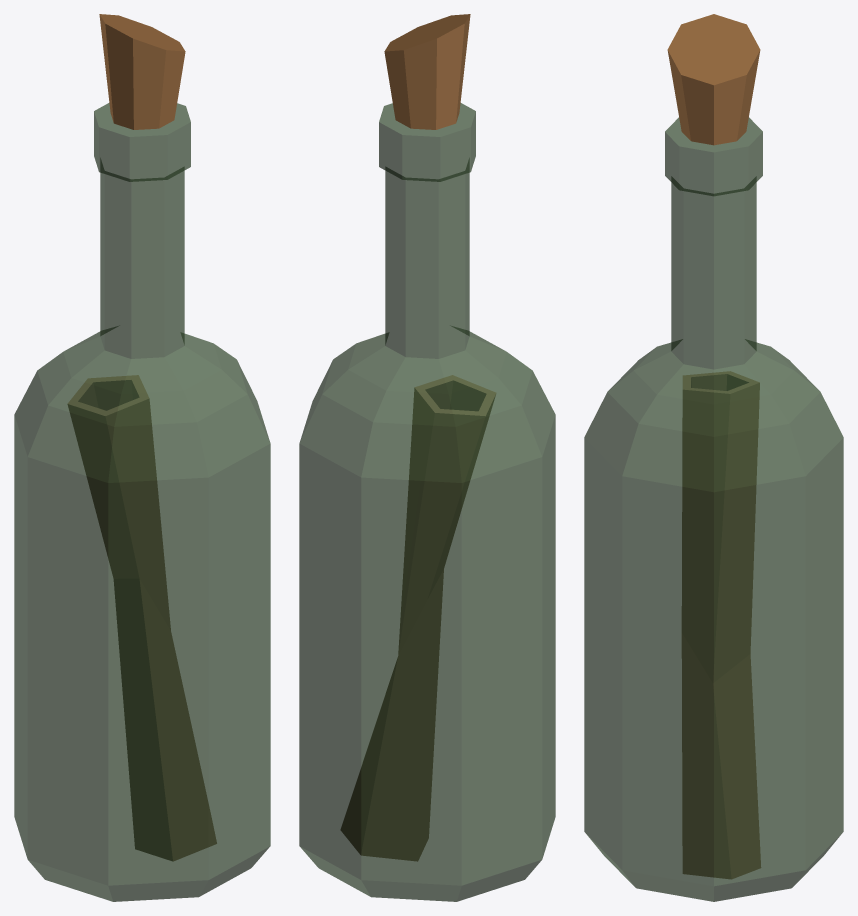
File: Bottle_11.glb
3 views of the same model, side by side, from view 1: azimuth 30°, elevation 25°; view 2: azimuth 150°, elevation 25°; view 3: azimuth 270°, elevation 25° (orthographic). The views are drawn at different scales.
Parts seen in each view (by area): view 1: Bottle_11; view 2: Bottle_11; view 3: Bottle_11.
Boxes of the visible parts, left/top/right/bottom form: Bottle_11: left=14, top=14, right=270, bottom=901; Bottle_11: left=299, top=14, right=555, bottom=901; Bottle_11: left=584, top=14, right=843, bottom=901.
Size of what is drawn, in the model's own units: 0.1923 by 0.6731 by 0.1923.
2 materials, 2 textured.
